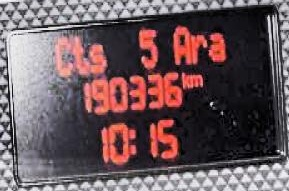0: (107, 118, 127, 163), (108, 75, 127, 111)
1: (95, 121, 106, 163), (79, 80, 90, 115), (146, 118, 155, 159)
3: (126, 71, 145, 110), (147, 69, 163, 108)
5: (155, 115, 178, 160), (135, 26, 158, 68)
6: (161, 68, 180, 104)
9: (91, 76, 106, 115)
X: (169, 21, 190, 66), (53, 33, 72, 76), (71, 33, 89, 76), (205, 28, 224, 61), (189, 28, 205, 63), (89, 41, 105, 73), (127, 125, 137, 155), (189, 69, 203, 88), (179, 66, 189, 88)
